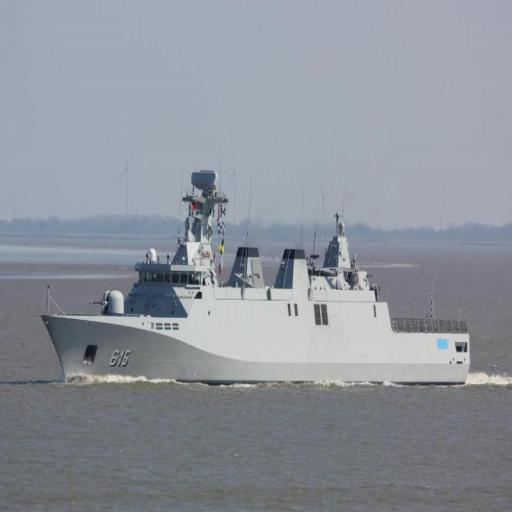Fragata: (41, 165, 472, 388)
